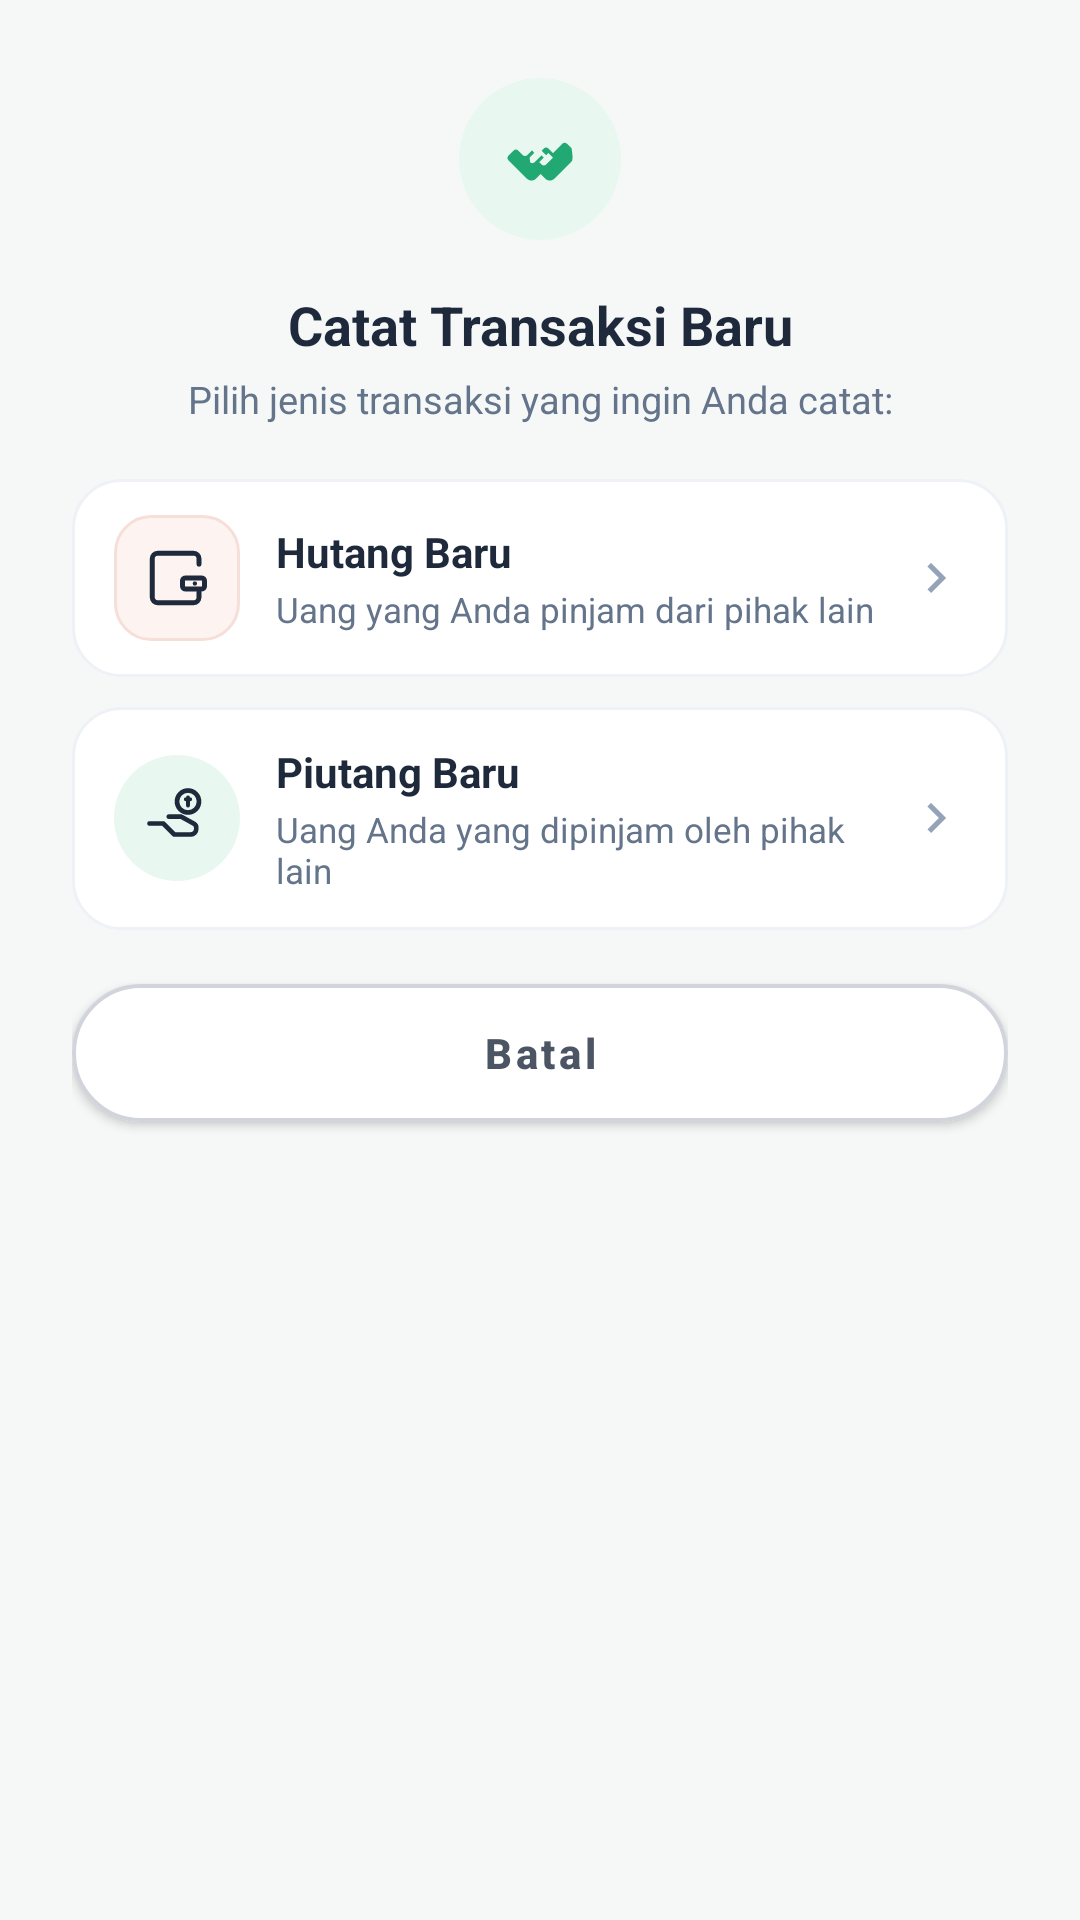

Icons on this 1080×1920 Android screen, each with its box as (x1, y1, x2, y2):
hupisan receive coin: (147, 788, 202, 837)
hupisan wallet: (149, 550, 207, 606)
keyboard arrow right: (927, 563, 946, 593), (927, 803, 946, 833)
